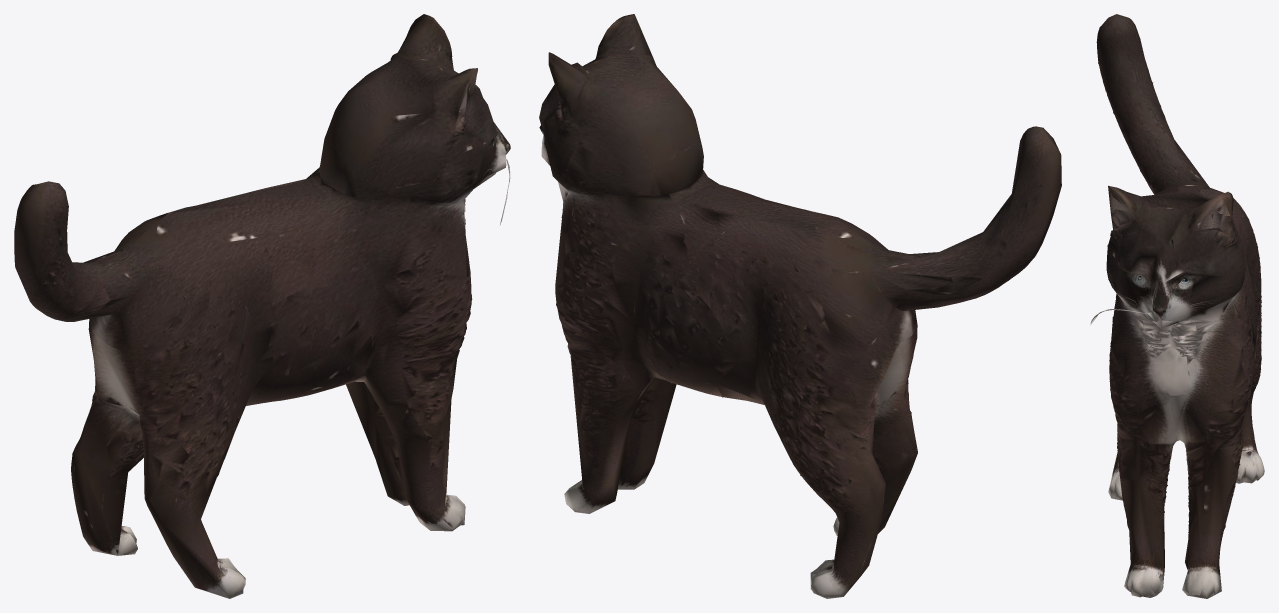
Rendered from SEACAT.glb.
3 views of the same model, side by side, from view 1: azimuth 30°, elevation 25°; view 2: azimuth 150°, elevation 25°; view 3: azimuth 270°, elevation 25° (orthographic). The views are drawn at different scales.
Parts seen in each view (by area): view 1: material; view 2: material; view 3: material.
Part boxes in pixels (left/top/right/bottom): material: left=14, top=14, right=510, bottom=598; material: left=539, top=14, right=1061, bottom=598; material: left=1090, top=14, right=1264, bottom=598.
Size of the model in its own units: 1.13 by 0.9967 by 0.3813.
1 material, 1 textured.
